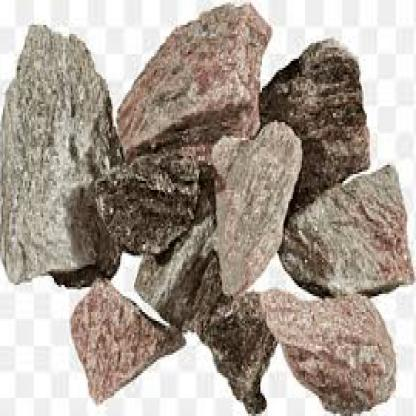Metamorphic_Quartize: (2, 21, 122, 274), (260, 271, 399, 414), (117, 7, 267, 129), (274, 165, 413, 296), (91, 127, 228, 258), (62, 262, 180, 414), (196, 289, 290, 414)
